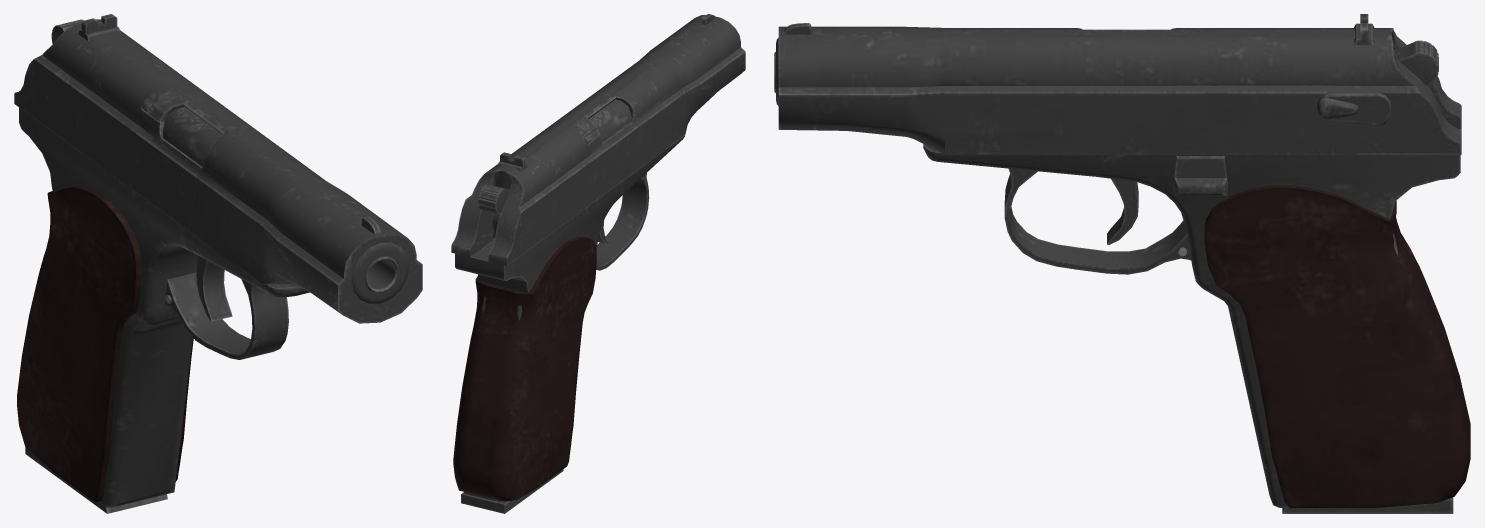
Rendered from makarov.medium.glb.
3 views of the same model, side by side, from view 1: azimuth 30°, elevation 25°; view 2: azimuth 150°, elevation 25°; view 3: azimuth 270°, elevation 25° (orthographic). The views are drawn at different scales.
Parts seen in each view (by area): view 1: Magazine; view 2: Magazine; view 3: Magazine.
Part boxes in pixels (x1,y1,x2,y2): Magazine: (14,14,422,513); Magazine: (451,14,745,513); Magazine: (774,14,1470,513).
Bounding box in the file's own units: 0.0305 × 0.1515 × 0.2.
Materials: 1 (1 with a texture image).
